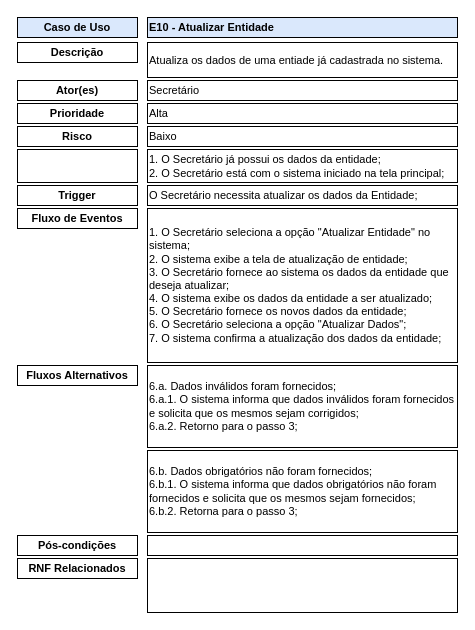
This 475x630 diagram has some shape labels left out. Each missing label, with the centre of its shape:
"E1-1. Usabilidade E1-2. Confiabilidade" belongs at point 302,585.
"Pré-condições / Suposições" belongs at point 77,165.
